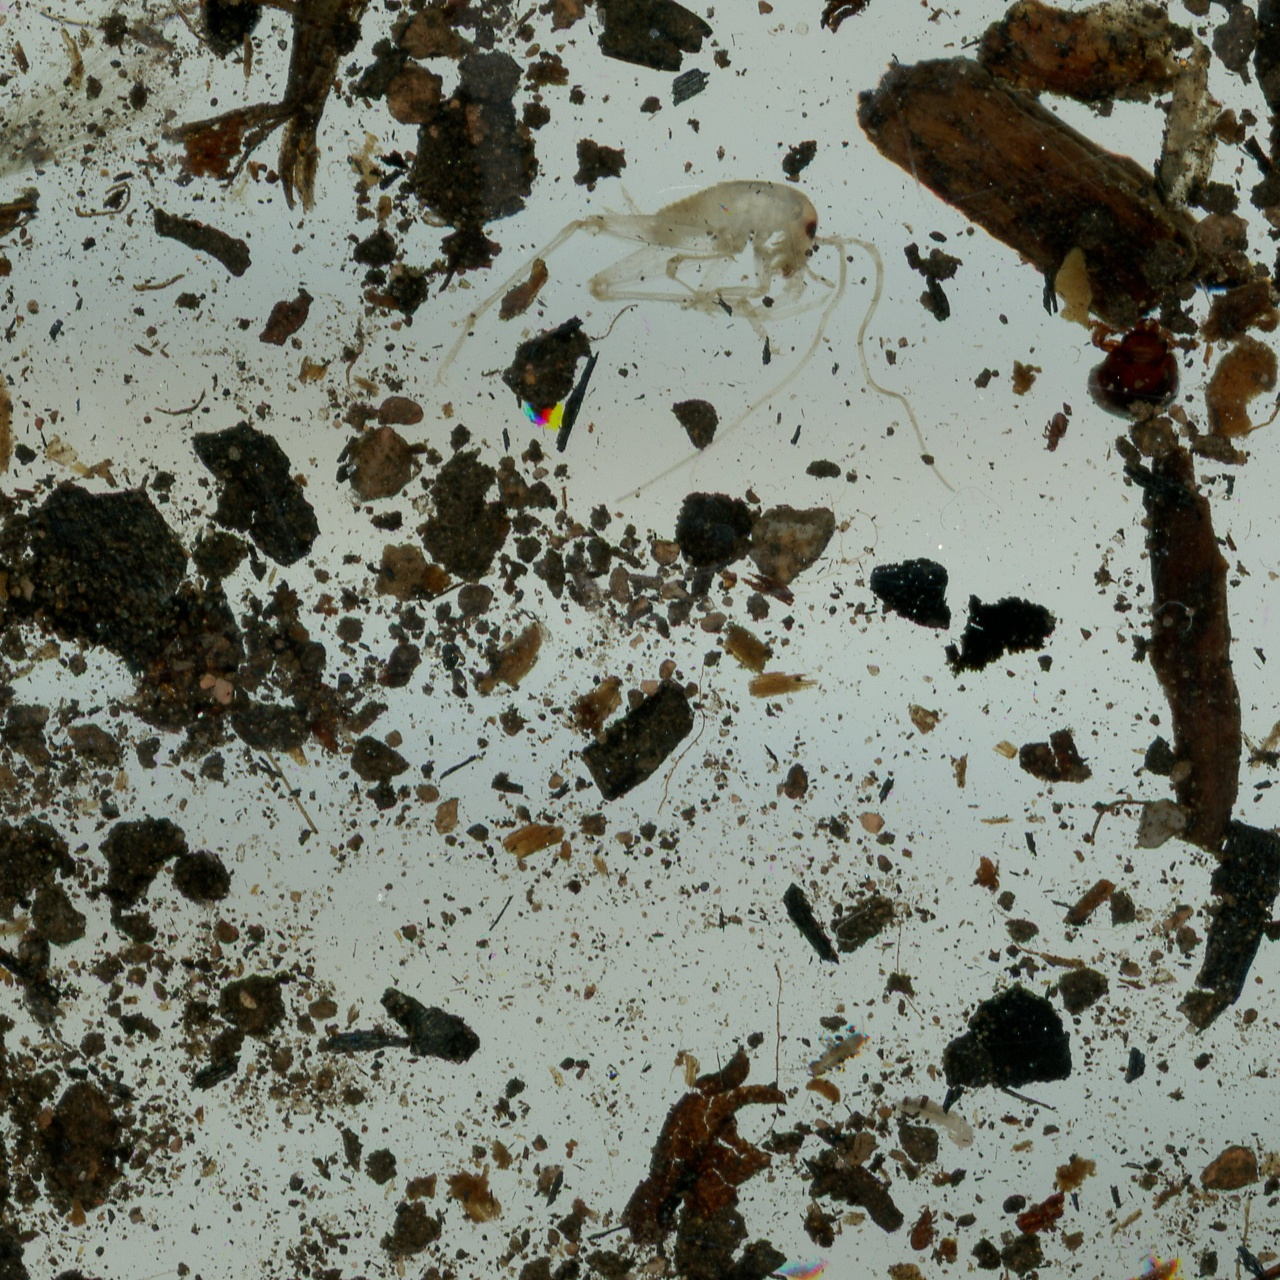arthropod: (432, 164, 972, 513), (134, 0, 309, 61), (556, 541, 623, 643), (318, 134, 393, 208), (1150, 900, 1198, 936), (1267, 395, 1280, 418)
